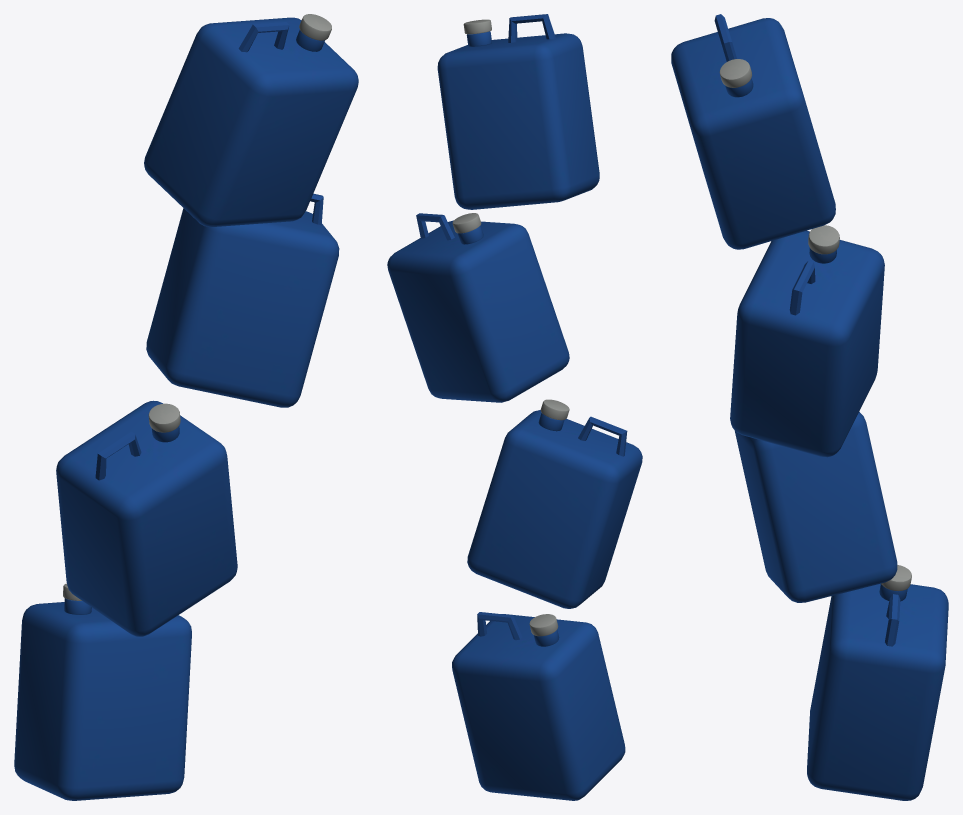
Rendered from EST-ADT-001_anim.glb.
The picture shows the model from 3 angles, left to right: view 1: azimuth 30°, elevation 25°; view 2: azimuth 150°, elevation 25°; view 3: azimuth 270°, elevation 25°; orthographic projection. The views are drawn at different scales.
Parts seen in each view (by area): view 1: EST-ADT-001_anim3, EST-ADT-001_anim1, EST-ADT-001_anim0, EST-ADT-001_anim2; view 2: EST-ADT-001_anim0, EST-ADT-001_anim3, EST-ADT-001_anim2, EST-ADT-001_anim1; view 3: EST-ADT-001_anim2, EST-ADT-001_anim0, EST-ADT-001_anim3, EST-ADT-001_anim1.
Part boxes in pixels (<box>): EST-ADT-001_anim3: <box>144,14,358,226</box>; EST-ADT-001_anim1: <box>56,400,237,636</box>; EST-ADT-001_anim0: <box>14,583,191,800</box>; EST-ADT-001_anim2: <box>146,193,339,407</box>; EST-ADT-001_anim0: <box>452,612,625,800</box>; EST-ADT-001_anim3: <box>437,14,599,209</box>; EST-ADT-001_anim2: <box>387,213,569,402</box>; EST-ADT-001_anim1: <box>467,399,642,608</box>; EST-ADT-001_anim2: <box>730,225,884,457</box>; EST-ADT-001_anim0: <box>807,565,948,800</box>; EST-ADT-001_anim3: <box>671,14,835,249</box>; EST-ADT-001_anim1: <box>734,411,897,602</box>.
Bounding box in the file's own units: 0.6168 × 1.81 × 0.5666.
2 materials, 2 textured.
